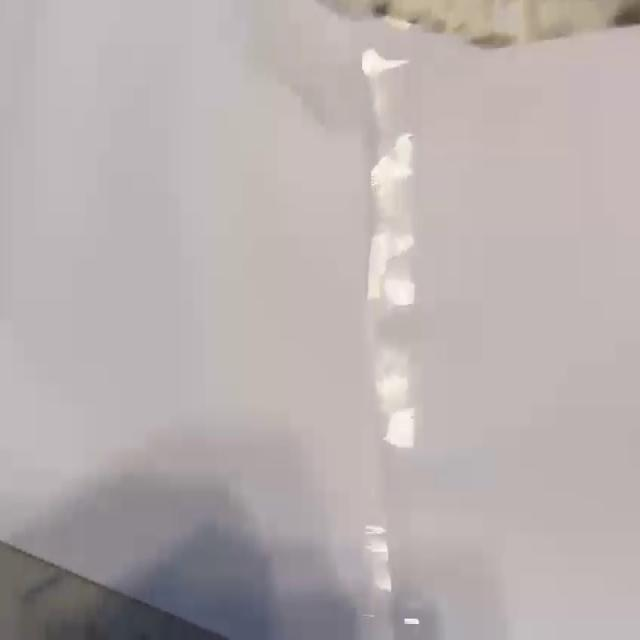road: (0, 1, 640, 638)
